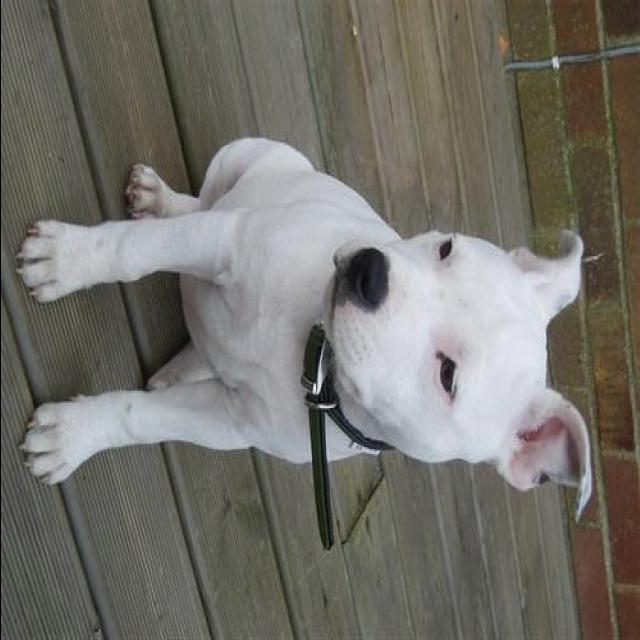staffordshire_bullterrier: (16, 142, 592, 538)
